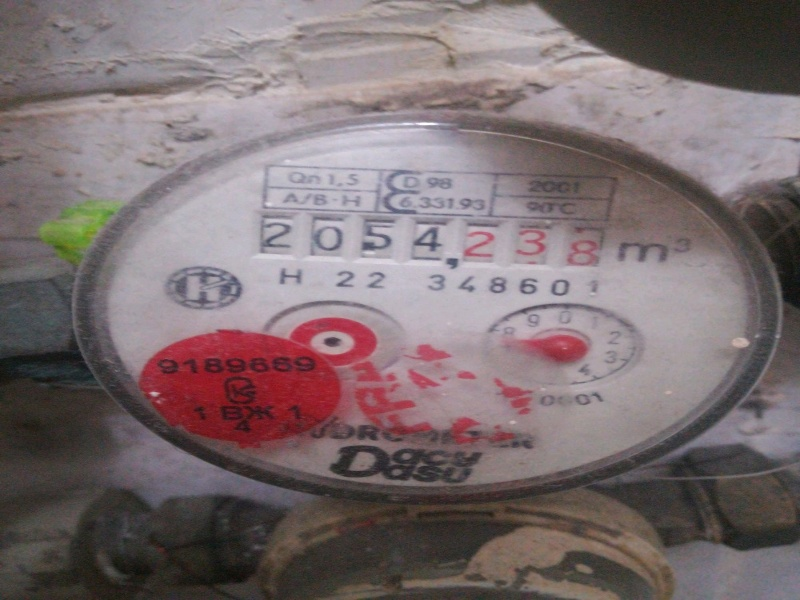dial: (253, 218, 606, 267)
